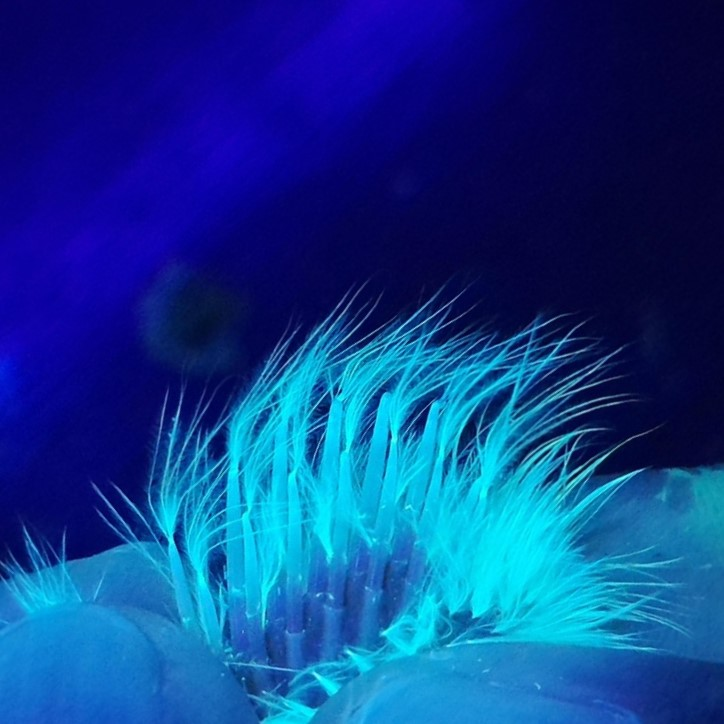female: (203, 383, 496, 690)
